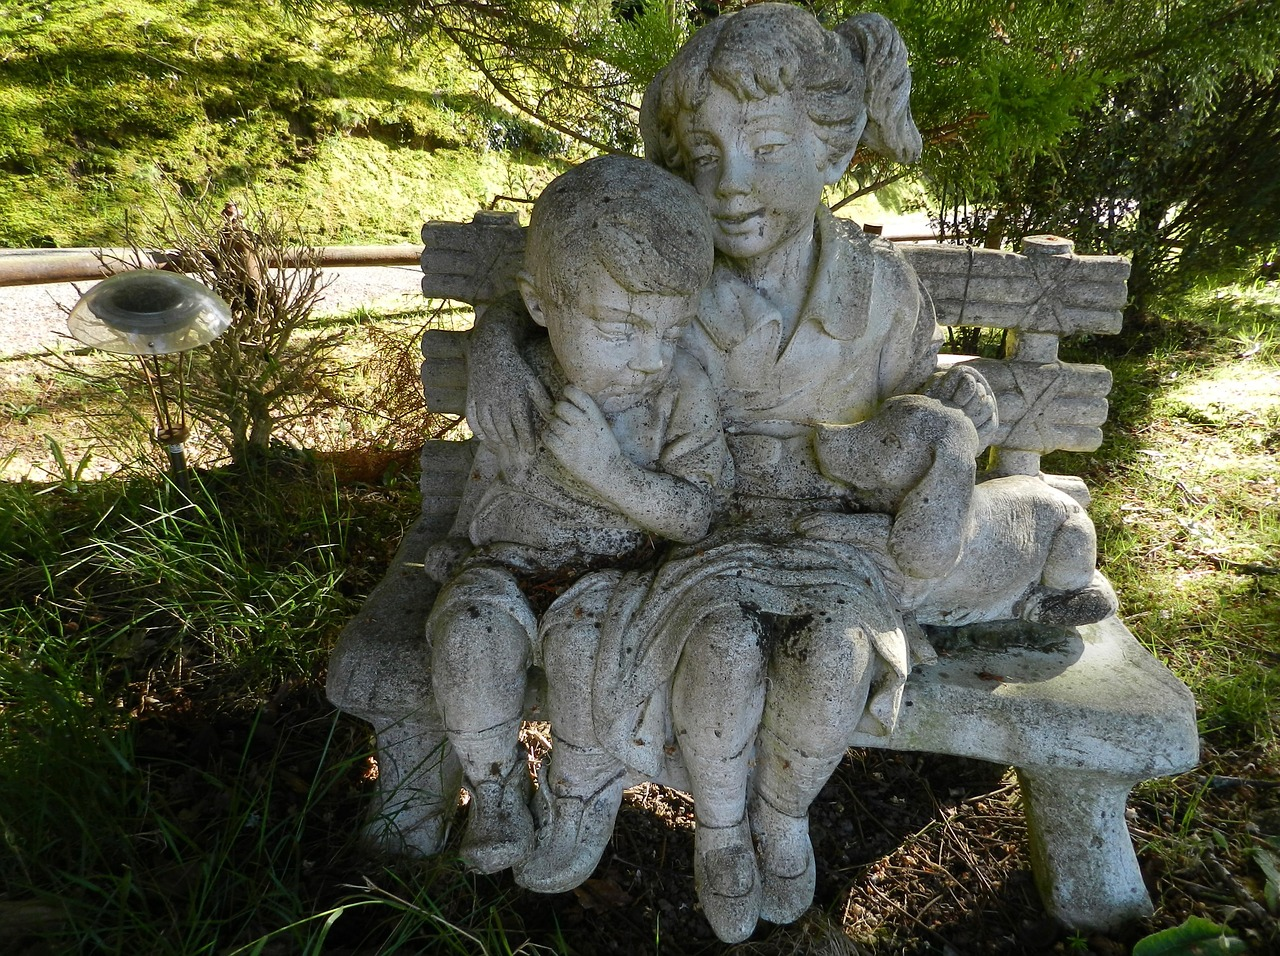person-like: (616, 2, 1001, 950), (415, 142, 740, 902)
